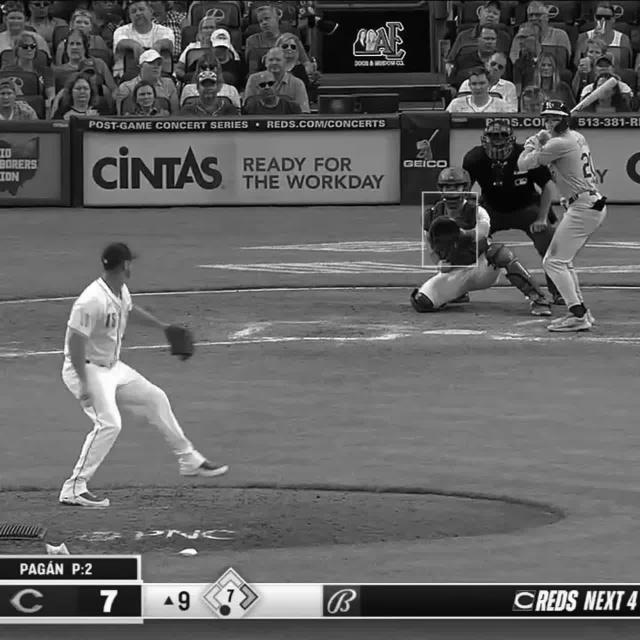base: (416, 328, 486, 336)
baseball: (78, 399, 92, 407)
baseball_glove: (164, 319, 200, 365), (427, 215, 464, 258)
bat: (573, 76, 615, 119)
shoe: (179, 452, 231, 479), (549, 301, 597, 329), (55, 492, 111, 511)
